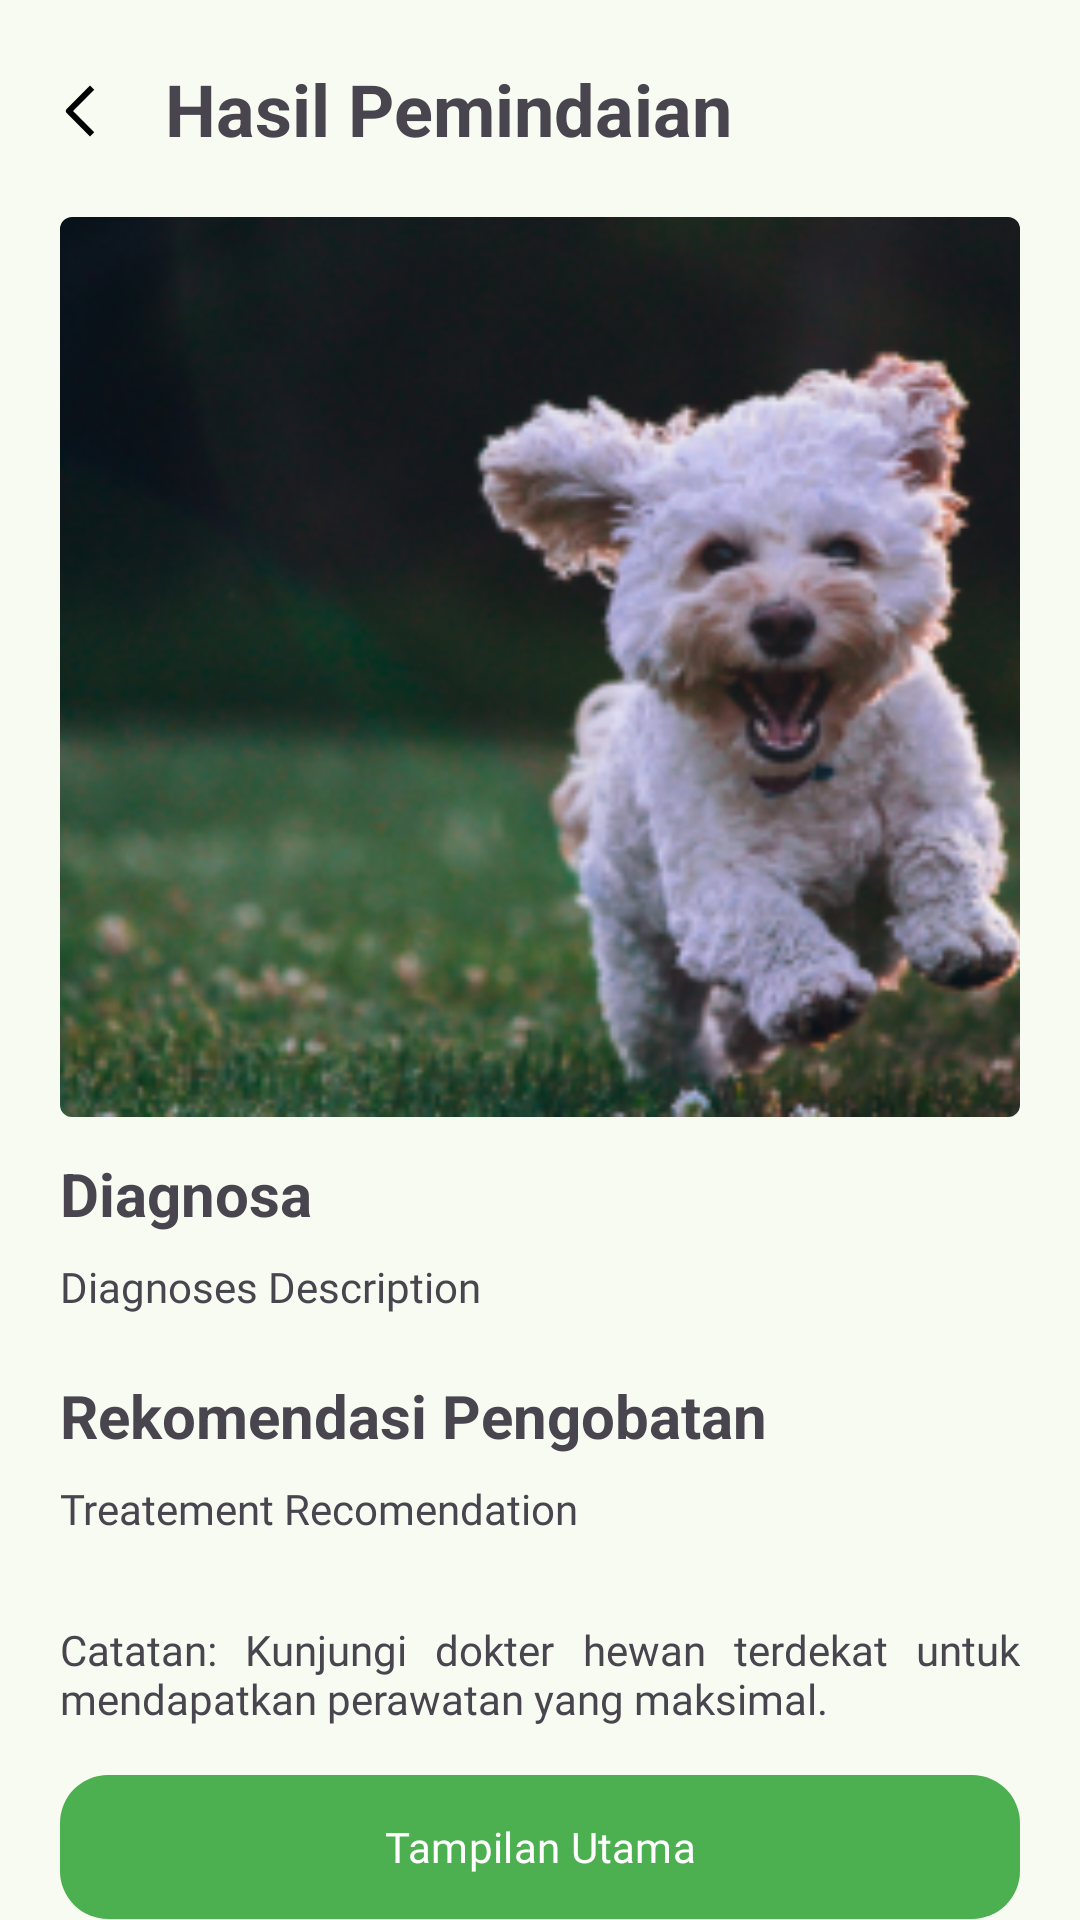

Named icons in this screenshot (1080w x 1920h) and their centers, (x=x, y=y):
back: (x=79, y=111)
